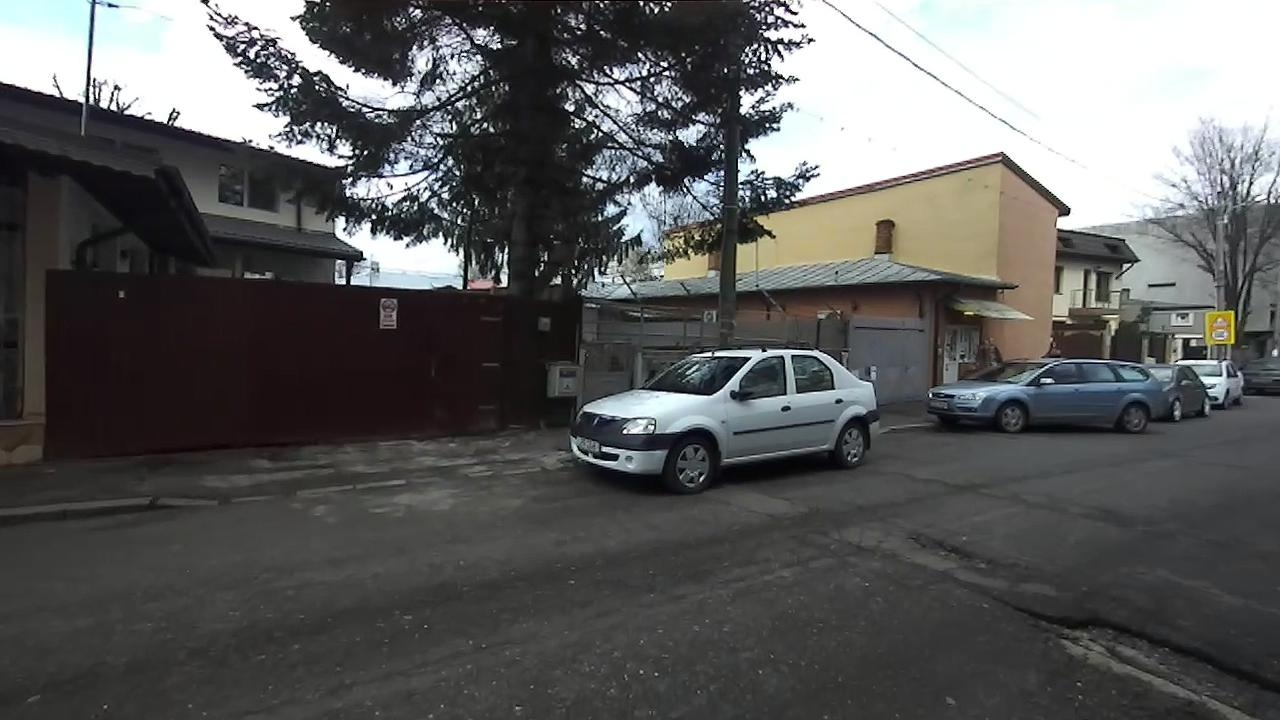pothole: (967, 586, 1279, 717), (890, 523, 1035, 579)
